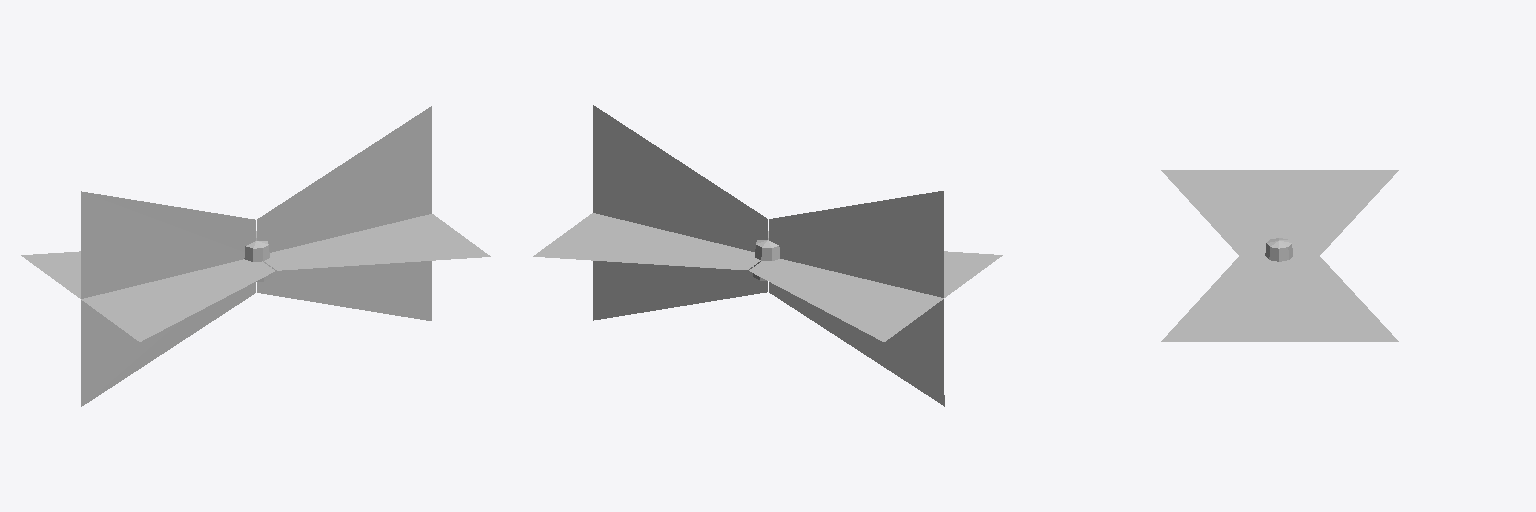
Rendered from stg400_MotRotlightA_r1_18.obj.
3 views of the same model, side by side, from view 1: azimuth 30°, elevation 25°; view 2: azimuth 150°, elevation 25°; view 3: azimuth 270°, elevation 25° (orthographic).
Parts seen in each view (by area): view 1: polygon4; view 2: polygon4; view 3: polygon4, polygon1.
Part boxes in pixels (left/top/right/bottom): polygon4: left=21, top=106, right=490, bottom=406; polygon4: left=533, top=105, right=1002, bottom=406; polygon4: left=1161, top=170, right=1398, bottom=341; polygon1: left=1265, top=238, right=1292, bottom=261.
Bounding box in the file's own units: 109 × 63.89 × 63.88.